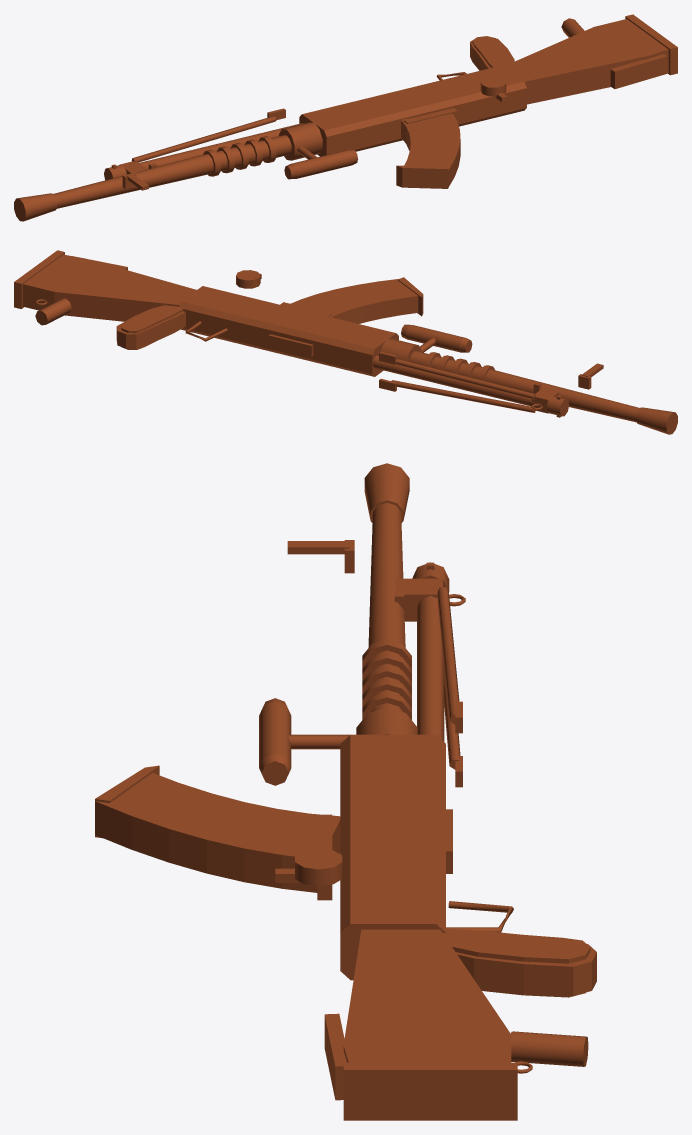
The model's file is bren_mk1.obj.
3 renders of one model, top to bottom at view 1: azimuth 30°, elevation 25°; view 2: azimuth 150°, elevation 25°; view 3: azimuth 270°, elevation 25°, orthographic. The views are drawn at different scales.
Visible parts, largest first — view 1: barrel_0; view 2: barrel_0; view 3: barrel_0.
Boxes of the visible parts, left/top/right/bottom form: barrel_0: left=14, top=14, right=677, bottom=221; barrel_0: left=14, top=250, right=677, bottom=434; barrel_0: left=95, top=463, right=596, bottom=1120.
Bounding box in the file's own units: 1.16 × 0.086 × 0.4041.
